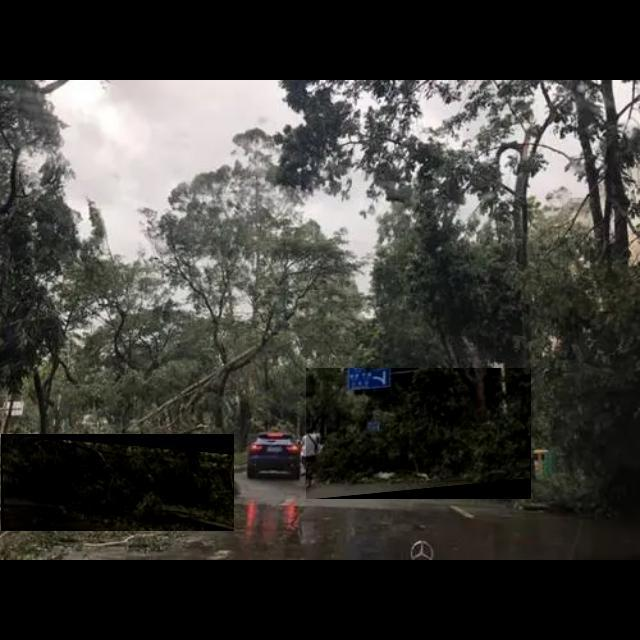fallen_tree: (306, 368, 532, 500), (1, 434, 235, 532)
